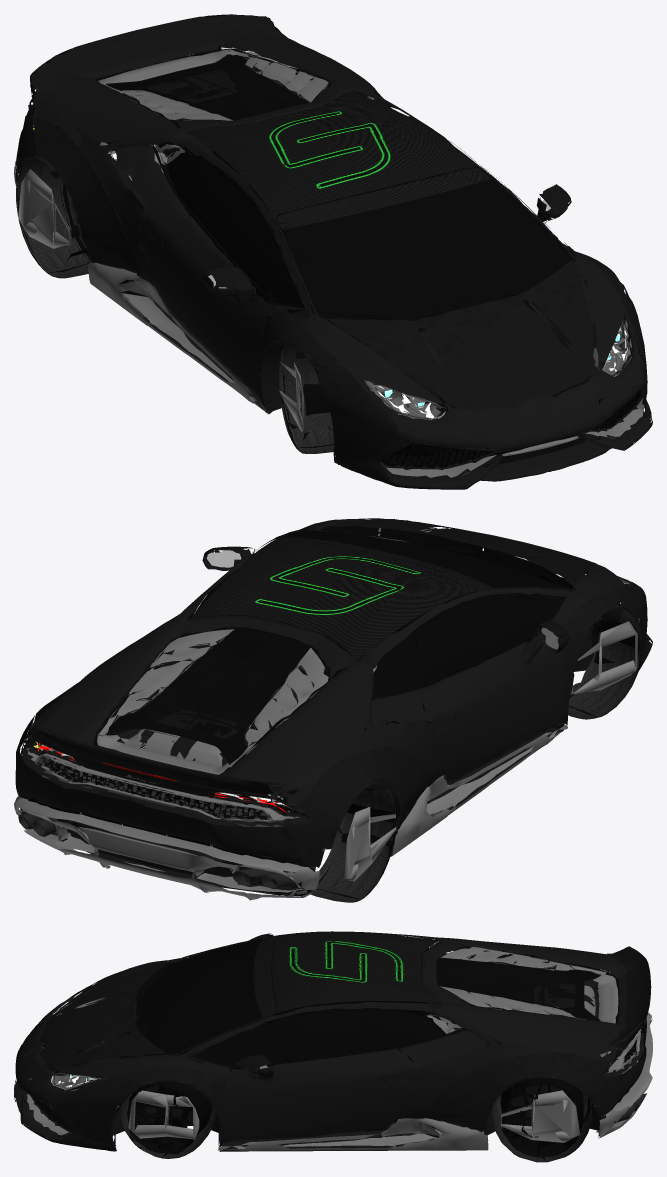
File: huracan.glb
3 views of the same model, one above another, from view 1: azimuth 30°, elevation 25°; view 2: azimuth 150°, elevation 25°; view 3: azimuth 270°, elevation 25° (orthographic). The views are drawn at different scales.
Visible parts, largest first — view 1: car_q; view 2: car_q; view 3: car_q.
Part boxes in pixels (left/top/right/bottom): car_q: left=14, top=14, right=652, bottom=489; car_q: left=14, top=518, right=652, bottom=902; car_q: left=14, top=931, right=652, bottom=1162.
Size of the model in its own units: 2.26 by 1.12 by 4.52.
Materials: 29 (4 with a texture image).
